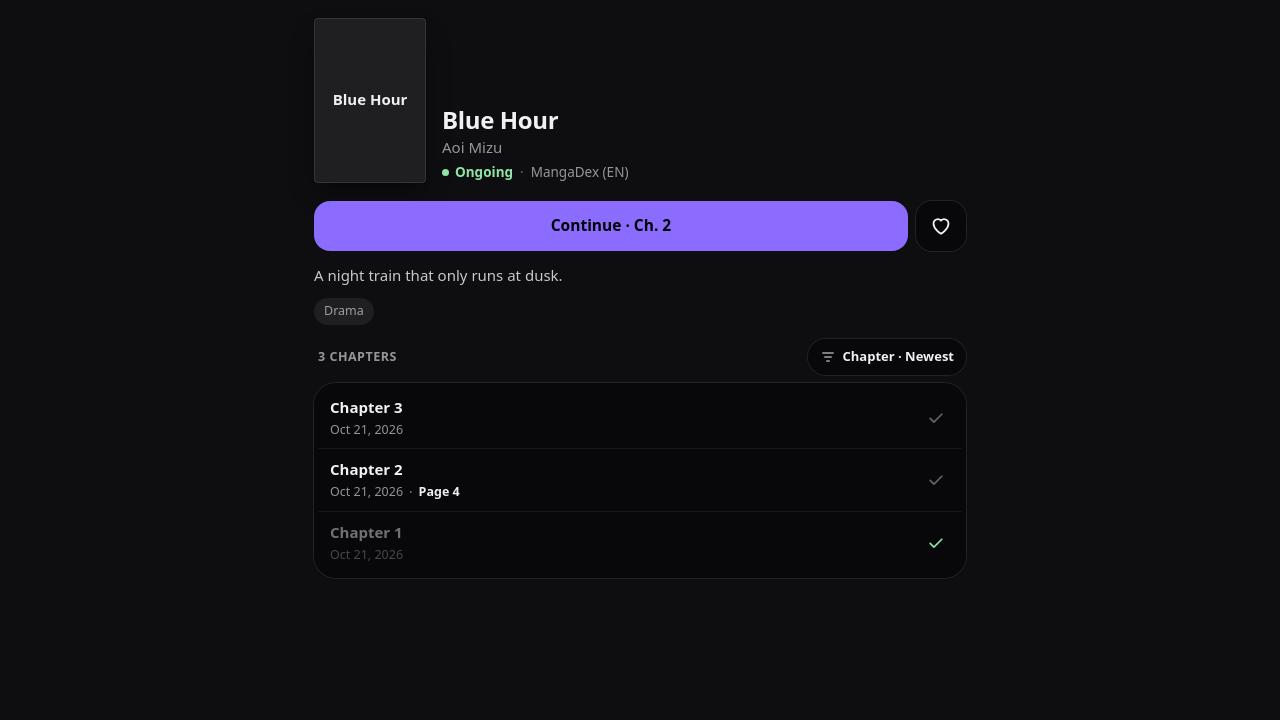
categories › asks for categories when adding a title, if there are any
Click the button named "Add to library" at (941,226), box [916,201,966,251]
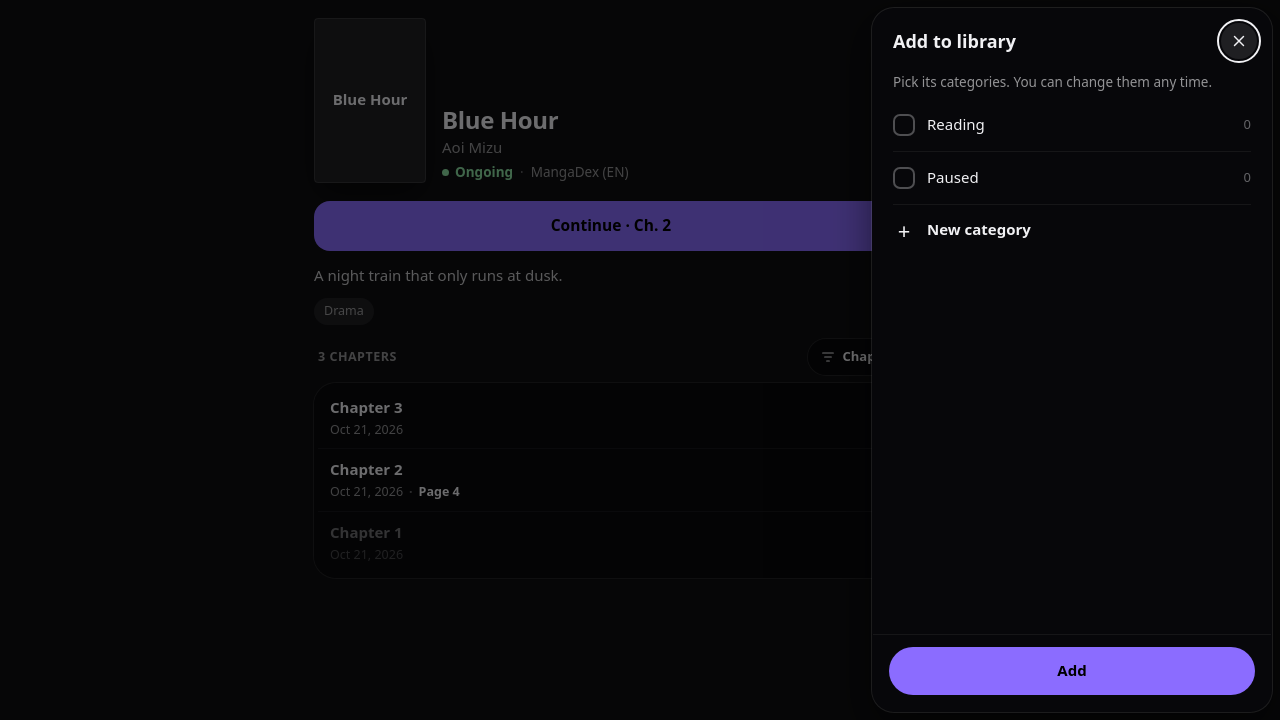
Click the checkbox labelled "Reading 0" at (904,125), box [893,114,915,136]
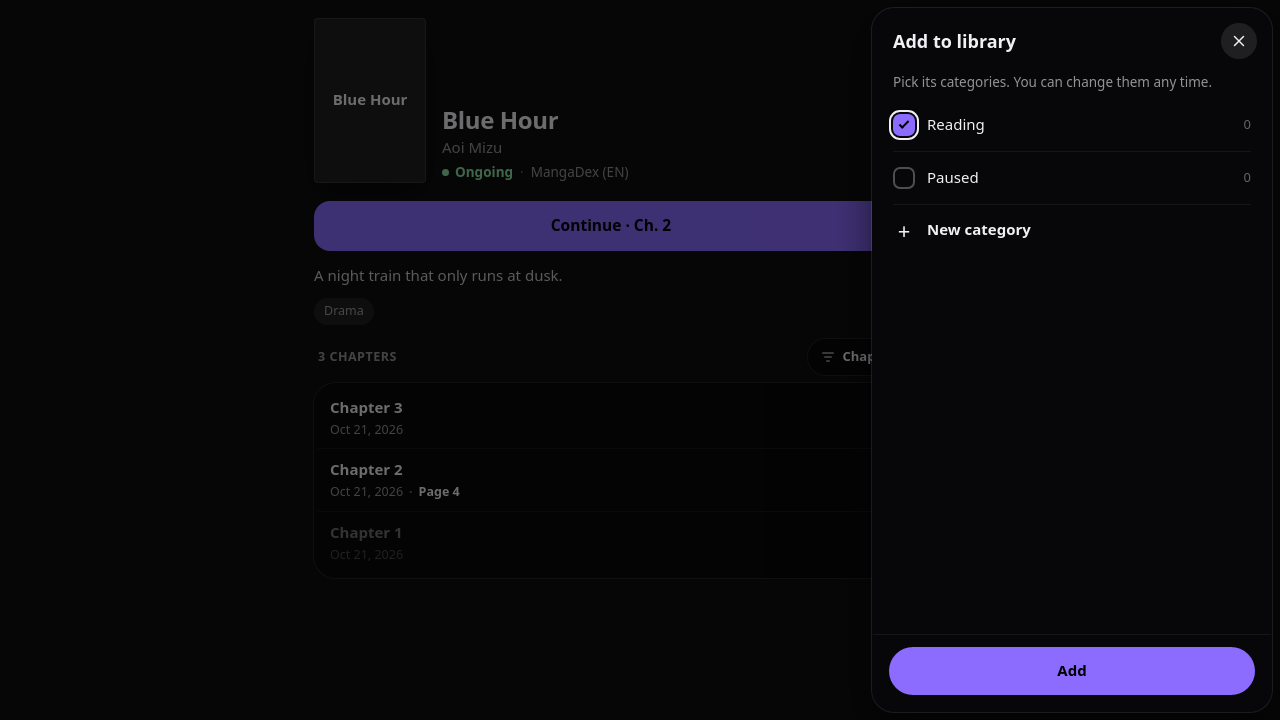
Click the button "Add" at (1072,671), box [889,647,1255,695]
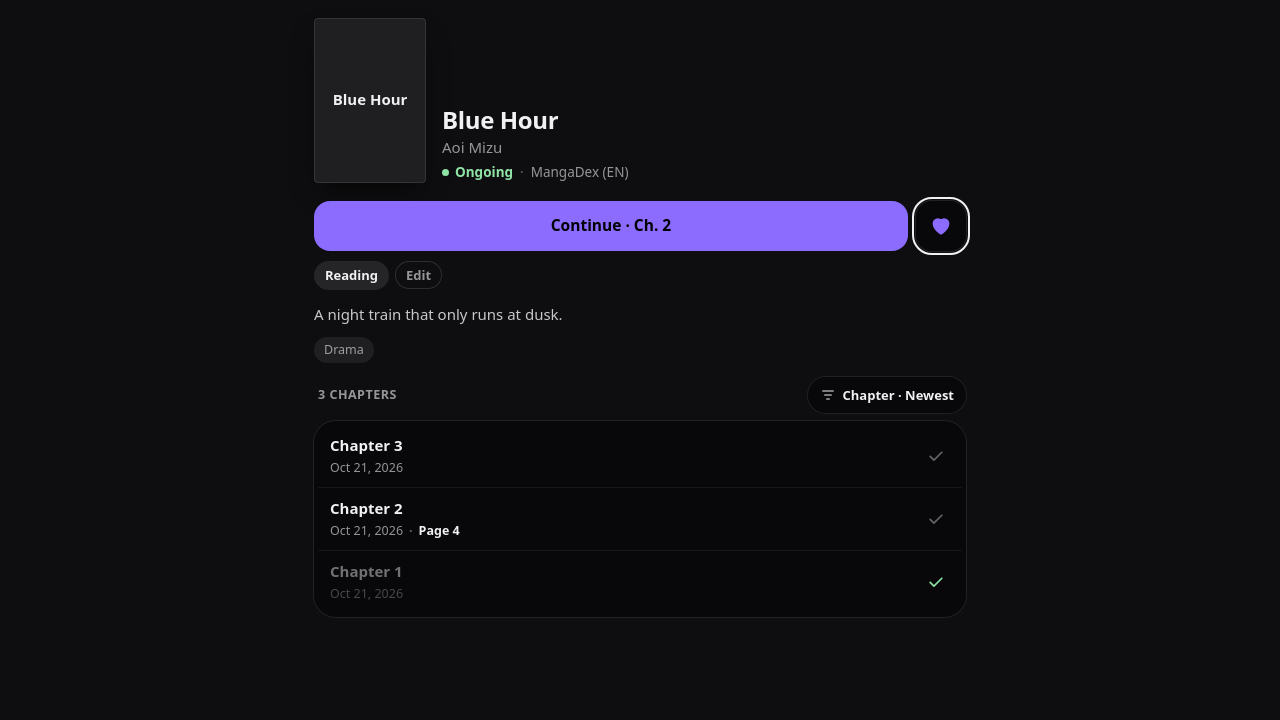
Result: the list item "Reading" is shown at [314,261,389,290]
Result: the button named "In library" is shown at [916,201,966,251]
